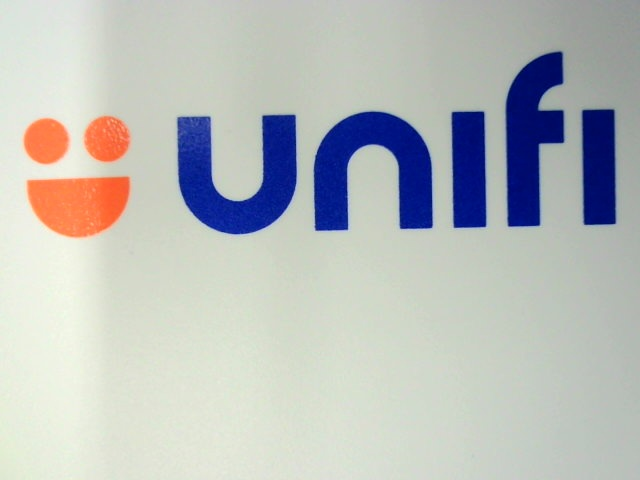BN_unifi: (14, 45, 628, 236)
